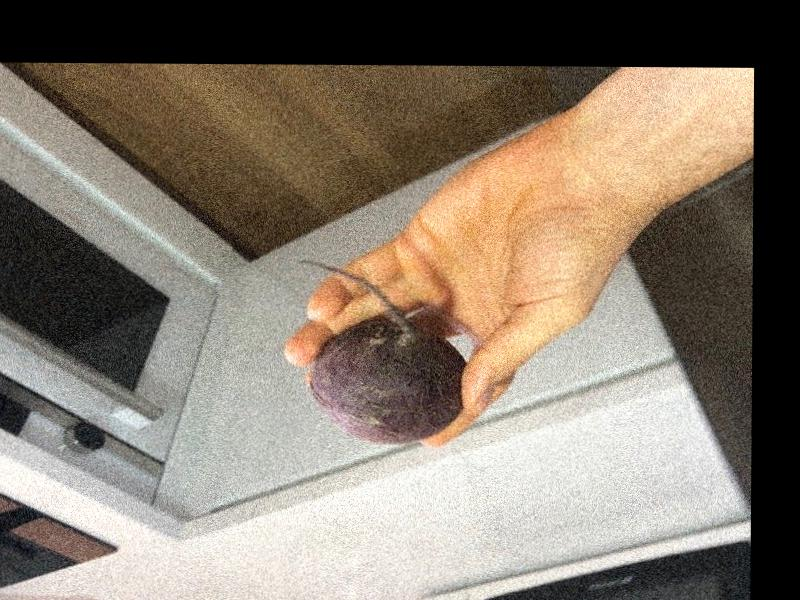Beet: (294, 259, 466, 444)
